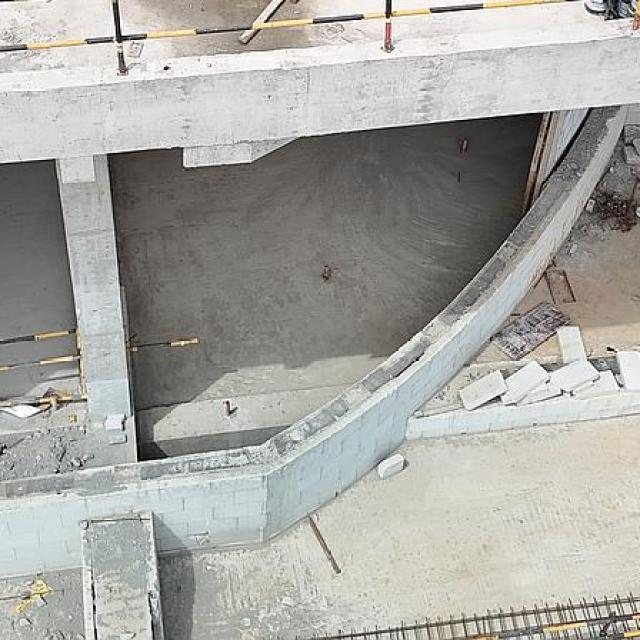edge_guardrail: (1, 0, 626, 73), (2, 326, 87, 404)
